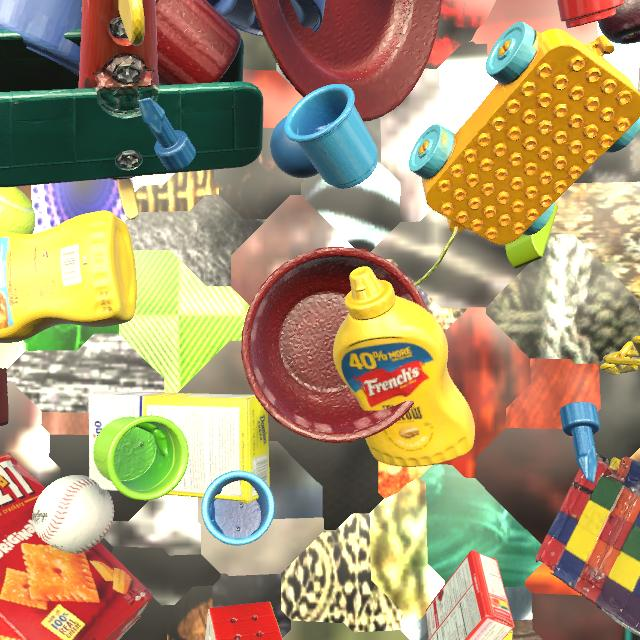ycb_003_cracker_box: (0, 453, 153, 640)
ycb_004_sugar_box: (88, 391, 270, 504)
ycb_006_mustard_bottle: (333, 266, 475, 467), (0, 211, 137, 343)
ycb_009_gelatin_box: (426, 550, 515, 640)
ycb_018_plum: (598, 0, 640, 44)
